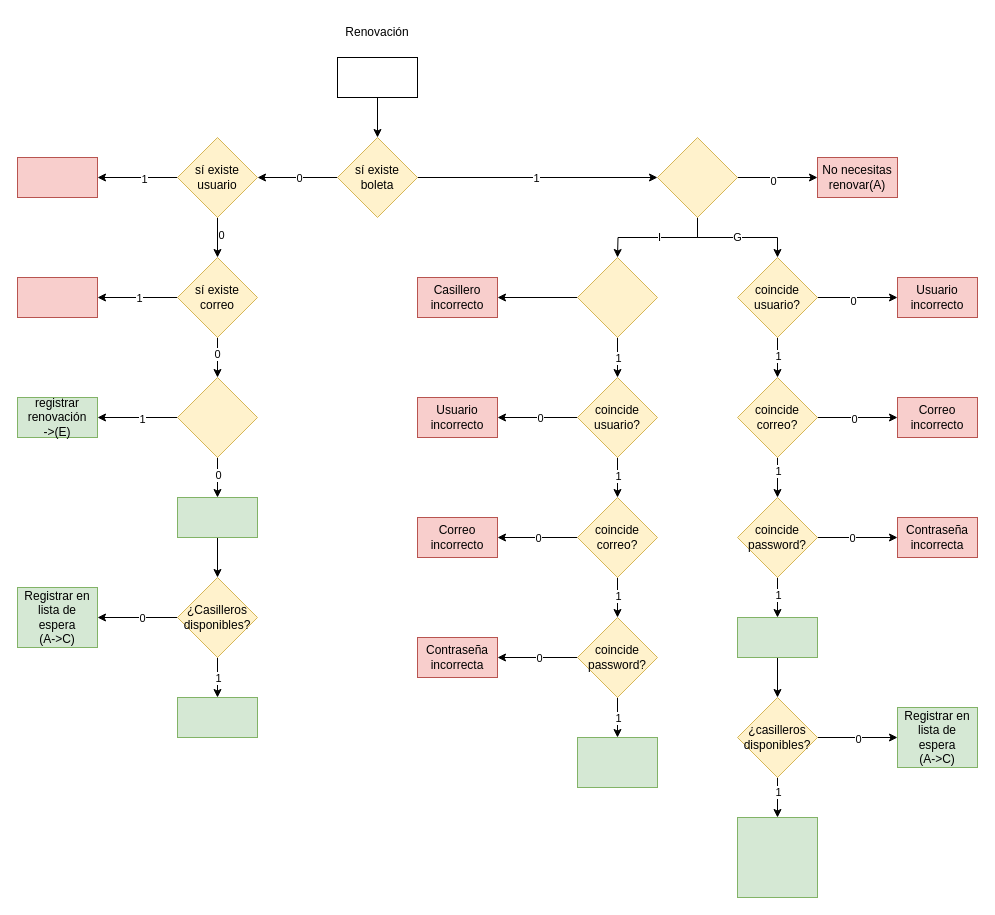
Image size: 995x915. Some labels were removed from this diagram. Each missing label, with the centre of its shape:
"casillero registrado disponible? y casilleros disponibles?" goes at (x=217, y=417).
"coincide casillero?" goes at (x=617, y=297).
"Correo ya registrado" goes at (x=57, y=297).
"Inicio" goes at (x=377, y=77).
"puede renovar?" goes at (x=697, y=177).
"Registrar (->A)" goes at (x=217, y=517).
"Registrar (A->D)" goes at (x=217, y=717).
"Registrar casillero (A->D) ???" goes at (x=777, y=857).
"registrar renovación (G->A)" goes at (x=777, y=637).
"registrar renovación (I->E)" goes at (x=617, y=762).
"Usuario ocupado" goes at (x=57, y=177).
